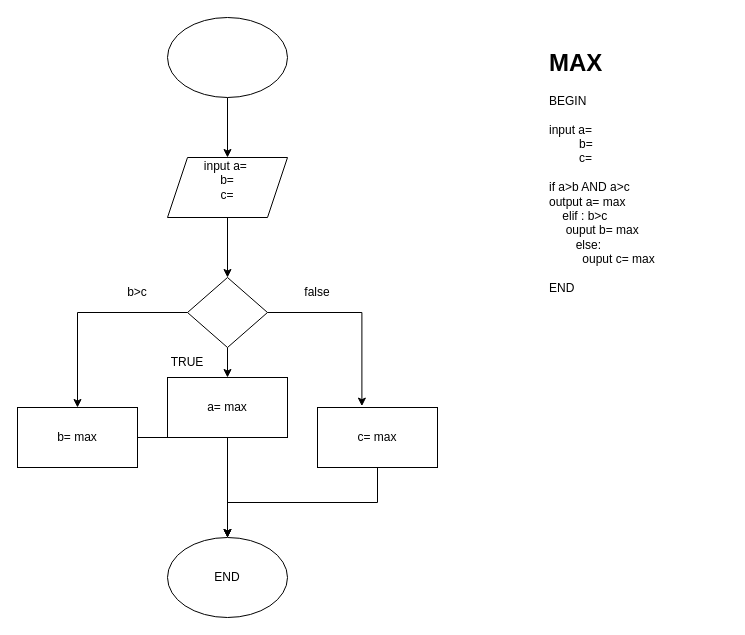
Some shapes in this 745 by 635 pixel diagram are drawn without their labels. Each missing label, with the centre of its shape:
"a>b & a>c" belongs at point 227,312.
"Begin" belongs at point 227,57.
